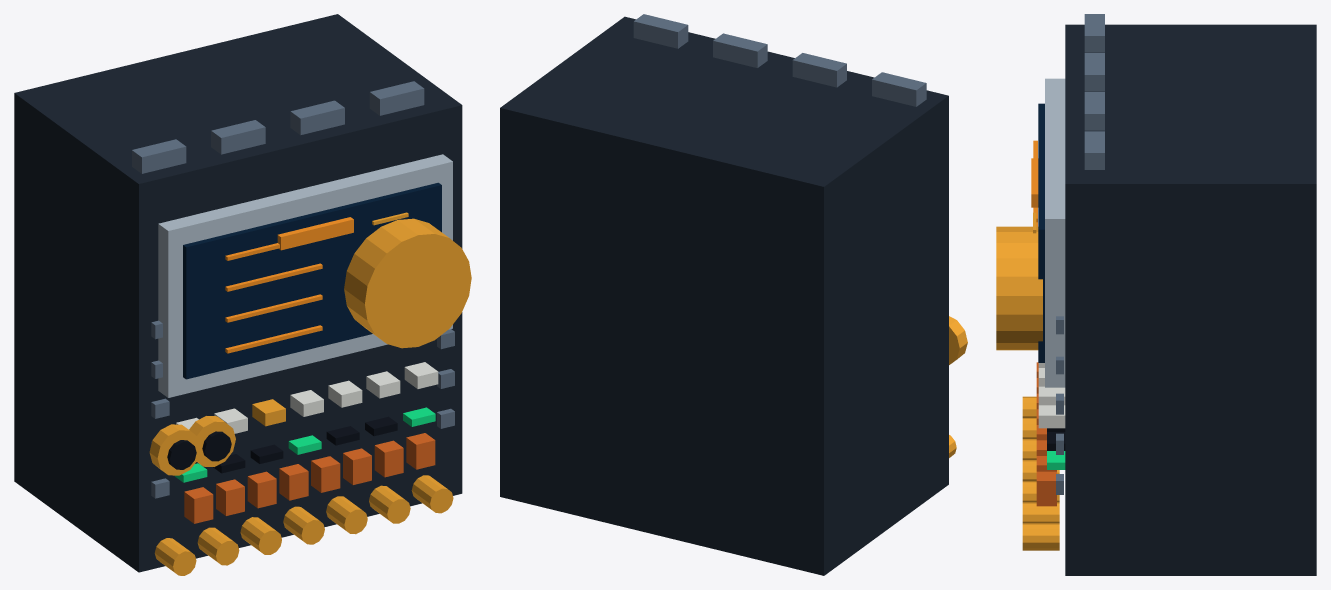
Rendered from 60_L87_RotaryPowerIsolationContactor.fbx.
The picture shows the model from 3 angles, left to right: view 1: azimuth 30°, elevation 25°; view 2: azimuth 150°, elevation 25°; view 3: azimuth 270°, elevation 25°; orthographic projection.
Parts seen in each view (by area): view 1: L87_RotaryPowerIsolationContactor, L87_RotaryPowerIsolationContactor_Part_0012, L87_RotaryPowerIsolationContactor_Part_0010, L87_RotaryPowerIsolationContactor_Part_0013, L87_RotaryPowerIsolationContactor_Part_0011, L87_RotaryPowerIsolationContactor_Part_0015, L87_RotaryPowerIsolationContactor_Part_0016, L87_RotaryPowerIsolationContactor_Part_0014; view 2: L87_RotaryPowerIsolationContactor, L87_RotaryPowerIsolationContactor_Part_0010, L87_RotaryPowerIsolationContactor_Part_0013; view 3: L87_RotaryPowerIsolationContactor, L87_RotaryPowerIsolationContactor_Part_0012, L87_RotaryPowerIsolationContactor_Part_0010.
Boxes of the visible parts, x1,y1,x2,y2 form: L87_RotaryPowerIsolationContactor: (14,14,462,575); L87_RotaryPowerIsolationContactor_Part_0012: (344,218,471,348); L87_RotaryPowerIsolationContactor_Part_0010: (132,81,424,173); L87_RotaryPowerIsolationContactor_Part_0013: (149,424,200,475); L87_RotaryPowerIsolationContactor_Part_0011: (277,217,353,250); L87_RotaryPowerIsolationContactor_Part_0015: (189,416,235,466); L87_RotaryPowerIsolationContactor_Part_0016: (202,431,231,461); L87_RotaryPowerIsolationContactor_Part_0014: (167,440,196,469); L87_RotaryPowerIsolationContactor: (500,16,956,575); L87_RotaryPowerIsolationContactor_Part_0010: (633,14,926,106); L87_RotaryPowerIsolationContactor_Part_0013: (949,316,967,364); L87_RotaryPowerIsolationContactor: (1022,24,1316,575); L87_RotaryPowerIsolationContactor_Part_0012: (996,226,1042,350); L87_RotaryPowerIsolationContactor_Part_0010: (1084,14,1104,169).
Bounding box in the file's own units: 96.95 × 116 × 82.3.
